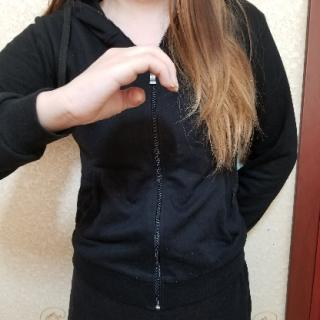JEEM: (56, 38, 191, 138)
